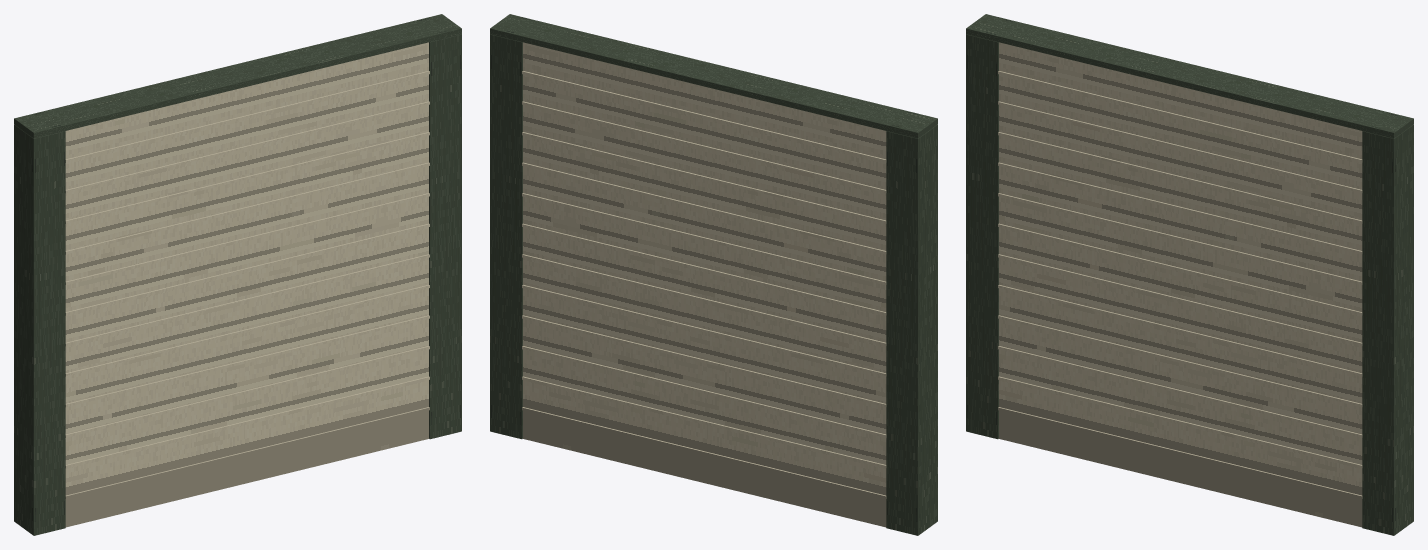
Rendered from house_01_wall_solid.glb.
The picture shows the model from 3 angles, left to right: view 1: azimuth 30°, elevation 25°; view 2: azimuth 150°, elevation 25°; view 3: azimuth 330°, elevation 25°; orthographic projection.
Parts seen in each view (by area): view 1: house_01_wall_solid; view 2: house_01_wall_solid; view 3: house_01_wall_solid.
Boxes of the visible parts, x1,y1,x2,y2 form: house_01_wall_solid: (14, 14, 461, 535); house_01_wall_solid: (490, 14, 937, 535); house_01_wall_solid: (966, 14, 1413, 535).
Size of the model in its own units: 3 by 2.7 by 0.24.
2 materials, 2 textured.
